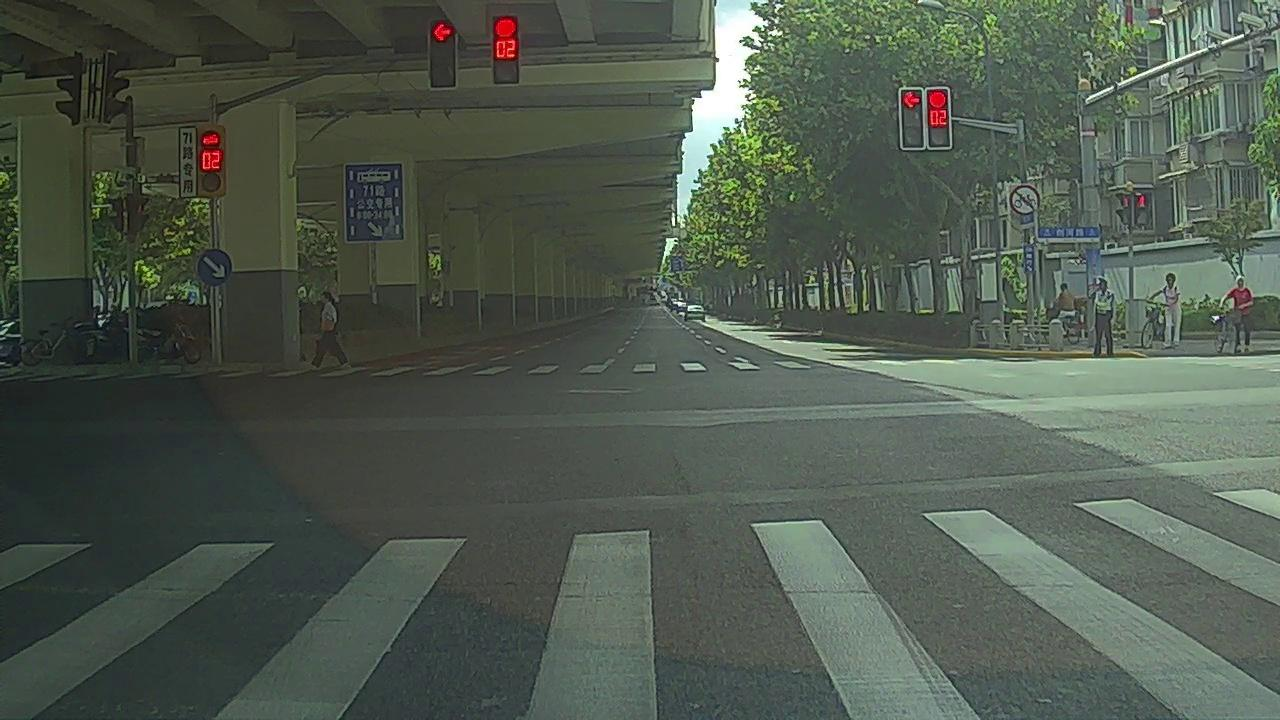traffic_light: (493, 11, 520, 86), (428, 14, 455, 86), (926, 83, 952, 148), (902, 89, 923, 149)
